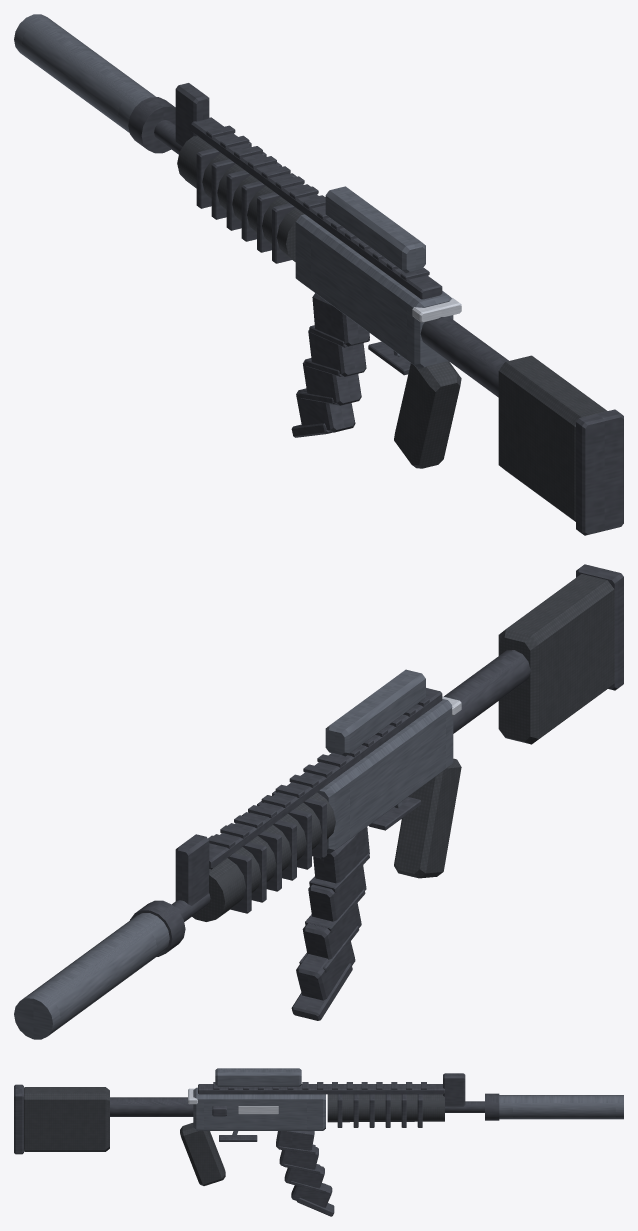
The model's file is weapon_m4.glb.
3 views of the same model, one above another, from view 1: azimuth 30°, elevation 25°; view 2: azimuth 150°, elevation 25°; view 3: azimuth 270°, elevation 25° (orthographic). The views are drawn at different scales.
Visible parts, largest first — view 1: WeaponRoot, Magazine, Bolt; view 2: WeaponRoot, Magazine; view 3: WeaponRoot, Magazine, Bolt.
Part boxes in pixels (x1=…): WeaponRoot: x1=14, y1=14, x2=623, y2=535; Magazine: x1=291, y1=293, x2=369, y2=437; Bolt: x1=412, y1=298, x2=461, y2=322; WeaponRoot: x1=14, y1=564, x2=623, y2=1039; Magazine: x1=291, y1=827, x2=369, y2=1020; WeaponRoot: x1=14, y1=1068, x2=623, y2=1185; Magazine: x1=276, y1=1131, x2=334, y2=1216; Bolt: x1=188, y1=1088, x2=278, y2=1114.
Size of the model in its own units: 0.055 by 0.2562 by 0.988.
Materials: 4 (4 with a texture image).
